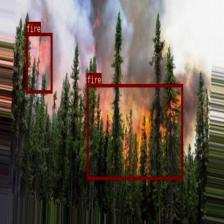fire: (86, 83, 182, 180), (26, 32, 52, 92)
